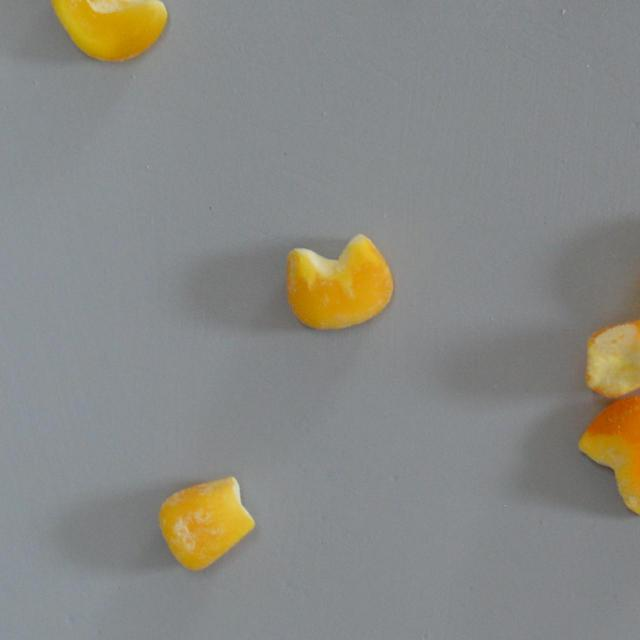no_canjicado: (284, 234, 394, 331), (50, 0, 166, 61)
pelicula: (154, 472, 256, 574), (576, 396, 640, 518), (582, 316, 640, 396)
